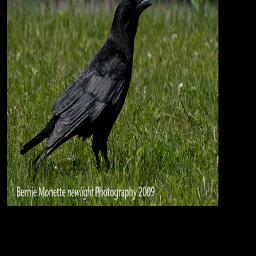Crow: (19, 0, 153, 177)
